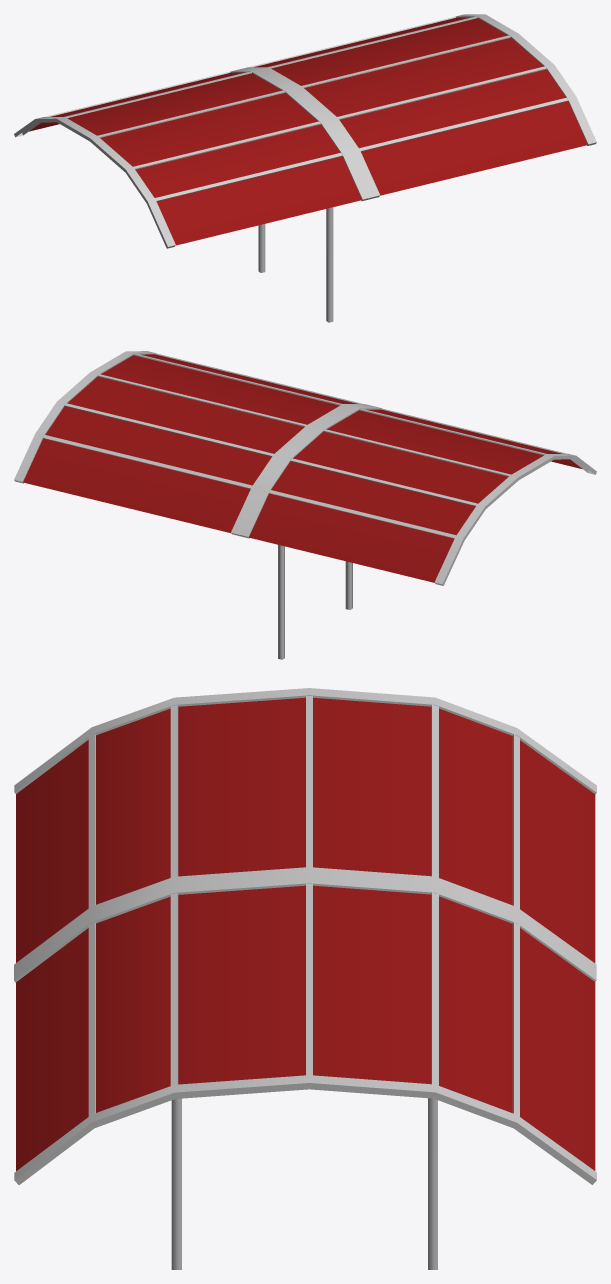
File: SM_Shed_v01.fbx
The picture shows the model from 3 angles, top to bottom: view 1: azimuth 30°, elevation 25°; view 2: azimuth 150°, elevation 25°; view 3: azimuth 270°, elevation 25°; orthographic projection. The views are drawn at different scales.
Parts seen in each view (by area): view 1: Shed_v1; view 2: Shed_v1; view 3: Shed_v1.
Boxes of the visible parts, bbox=[...] form: Shed_v1: bbox=[14, 14, 596, 322]; Shed_v1: bbox=[14, 351, 596, 659]; Shed_v1: bbox=[14, 688, 596, 1269].
Bounding box in the file's own units: 13.14 × 6.07 × 8.19.
